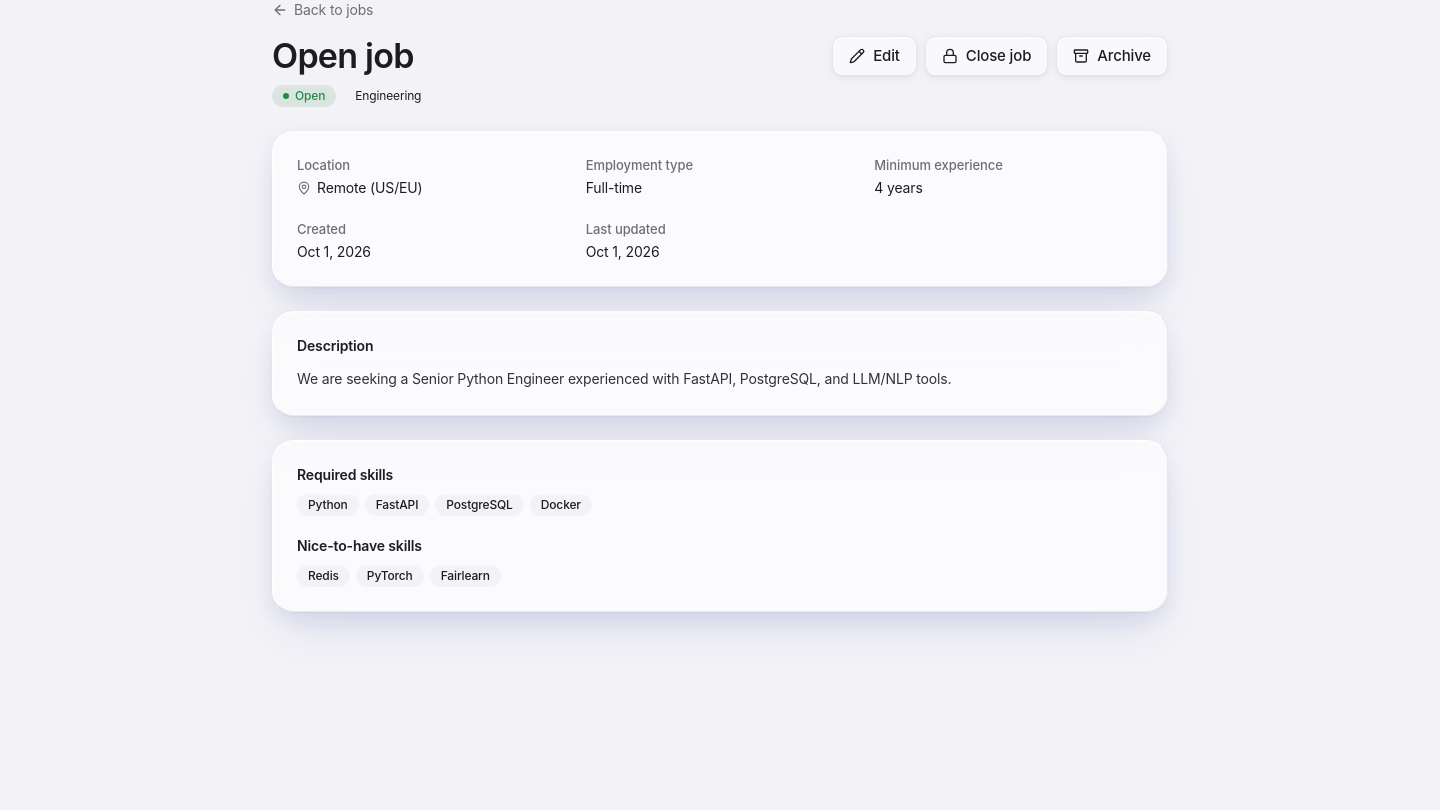
Test: JobDetail › does nothing when the confirmation is cancelled
Step 1. Click the button "Close job" → (987, 56), box [925, 36, 1048, 76]
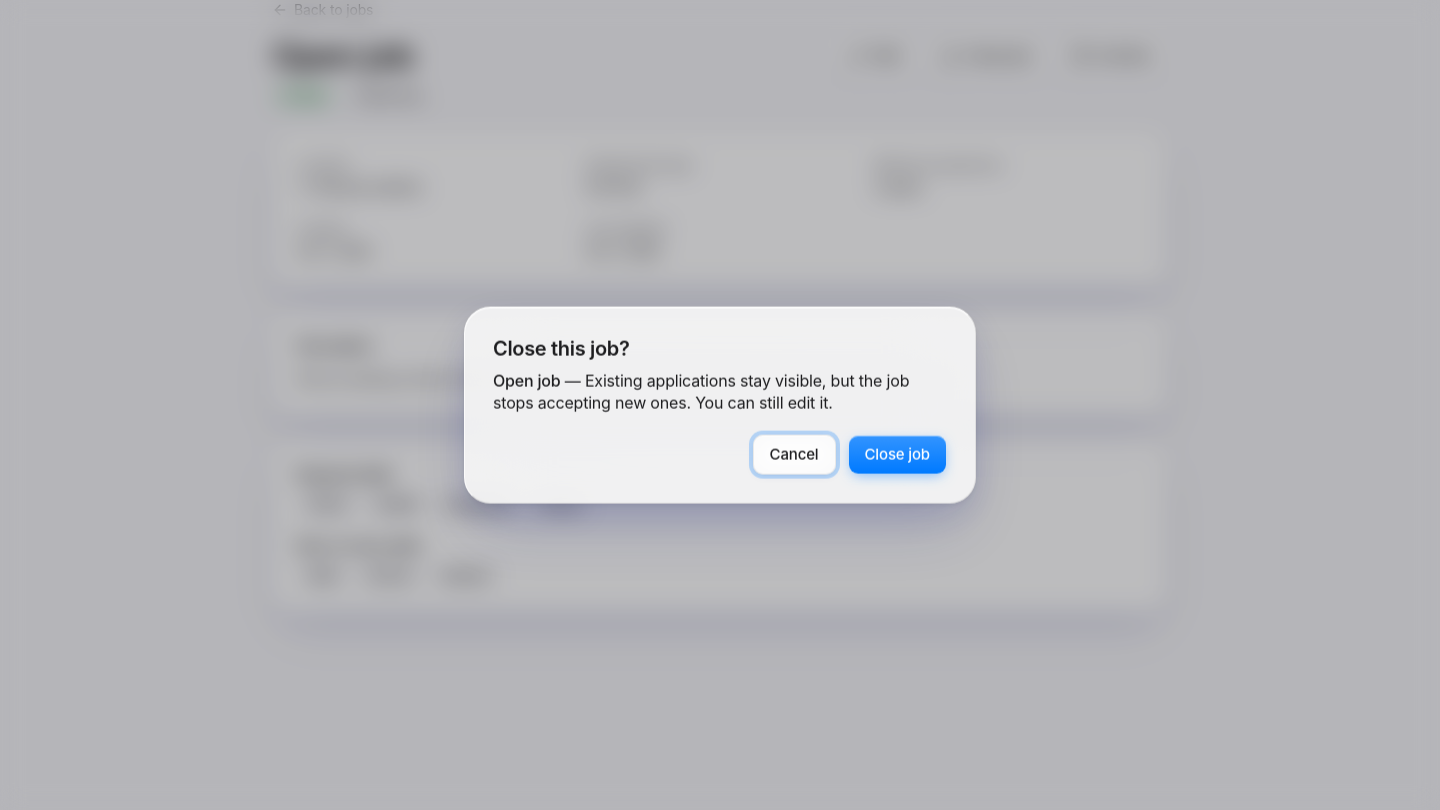
Step 2. Click the button "Cancel" → (794, 454), box [753, 434, 836, 474]
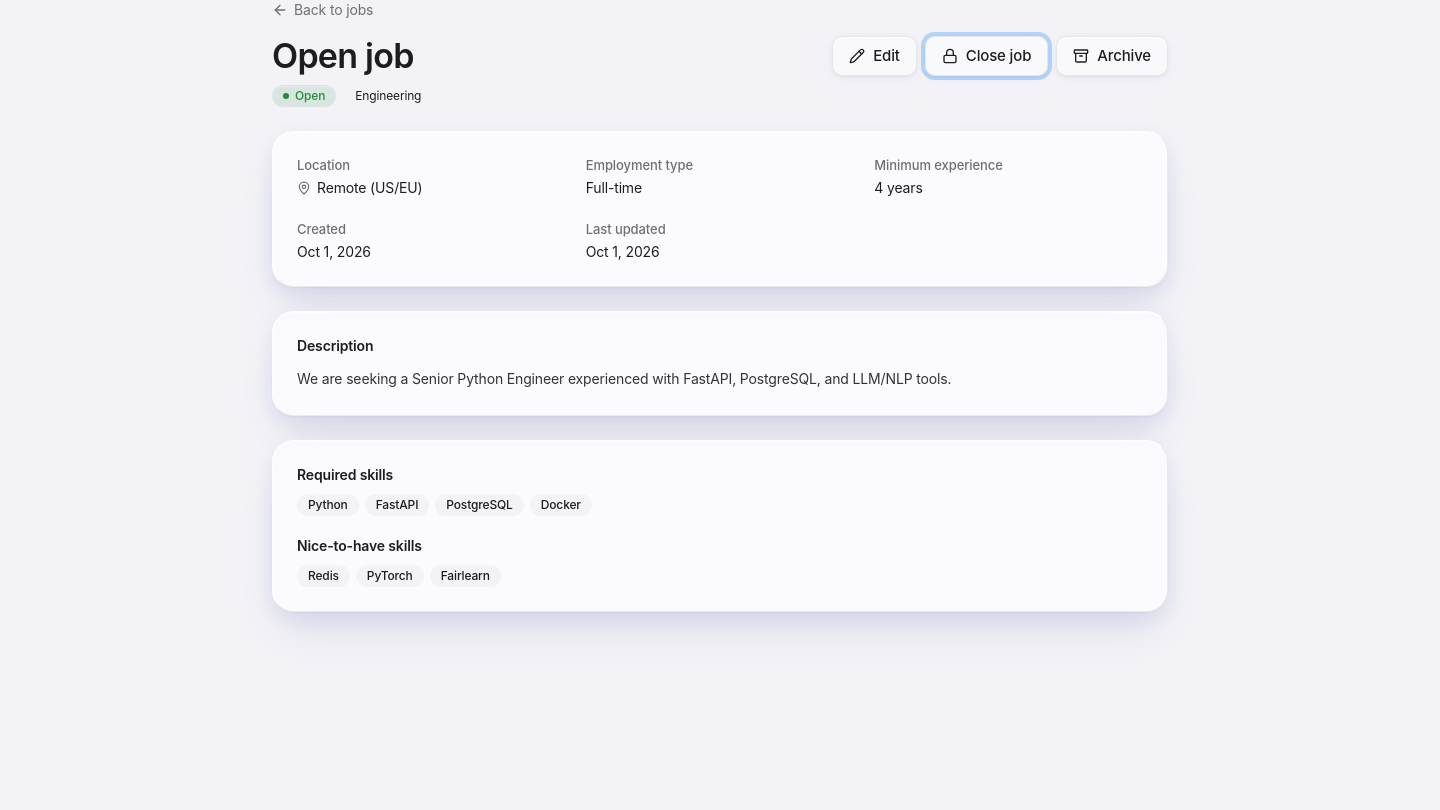
Check: the dialog is gone
